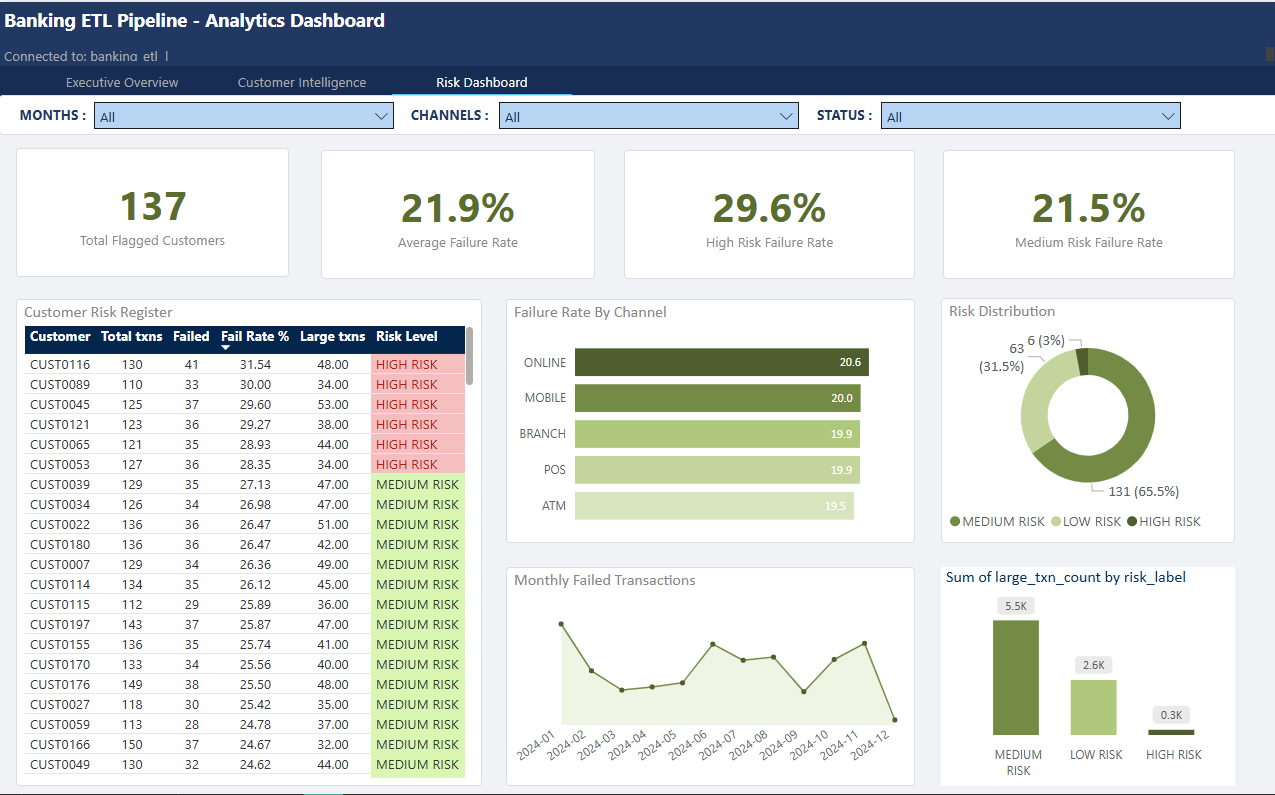

The dashboard page shown, as its layout file describes it:
{"tool":"powerbi","page":{"name":"Risk Dashboard","canvas":[1280,800],"ordinal":2},"visuals":[{"type":"textbox","box":[0,0,1280,40],"z":0},{"type":"textbox","box":[0,40,1280,24],"z":1},{"type":"textbox","box":[0,64,33,30],"z":2},{"type":"actionButton","title":"Executive Overview","box":[33,64,180,30],"z":3},{"type":"actionButton","box":[393,64,180,30],"z":4},{"type":"shape","box":[393,40,180,106],"z":5},{"type":"actionButton","box":[213,64,180,30],"z":6},{"type":"shape","box":[573,64,707,30],"z":7},{"type":"textbox","box":[0,93,1280,40],"z":8},{"type":"slicer","fields":{"Values":["banking_etl vw_monthly_trend.txn_month"]},"box":[85,90,320,40],"z":9},{"type":"slicer","fields":{"Values":["banking_etl vw_channel_performance.channel"]},"box":[490,90,320,40],"z":10},{"type":"slicer","fields":{"Values":["banking_etl fact_transactions.status"]},"box":[872,90,320,40],"z":11},{"type":"card","title":"Total Flagged Customers","fields":{"Values":["Count(banking_etl fact_transactions.customer_id)"]},"box":[17,146,273,129],"z":12},{"type":"card","fields":{"Values":["banking_etl vw_risk_customers.Average Failure Rate"]},"box":[322,148,274,129],"z":13},{"type":"card","fields":{"Values":["banking_etl vw_risk_customers.High Risk Failure Rate"]},"box":[625,148,291,129],"z":14},{"type":"card","fields":{"Values":["banking_etl vw_risk_customers.Medium Risk Failure Rate"]},"box":[944,148,292,129],"z":15},{"type":"tableEx","title":"Customer Risk Register","fields":{"Values":["banking_etl vw_risk_customers.customer_id","Sum(banking_etl vw_risk_customers.total_txns)","Sum(banking_etl vw_risk_customers.failed_txns)","Sum(banking_etl vw_risk_customers.failure_rate_pct)","Sum(banking_etl vw_risk_customers.large_txn_count)","banking_etl vw_risk_customers.risk_label"]},"box":[17,297,466,487],"z":16},{"type":"clusteredBarChart","title":"Failure Rate By Channel","fields":{"Y":["Sum(banking_etl vw_channel_performance.failure_rate_pct)"],"Category":["banking_etl vw_channel_performance.channel"]},"box":[507,297,409,244],"z":17},{"type":"donutChart","title":"Risk Distribution","fields":{"Category":["banking_etl vw_risk_customers.risk_label"],"Y":["CountNonNull(banking_etl vw_risk_customers.customer_id)"]},"box":[942,296,294,245],"z":18},{"type":"lineChart","title":"Monthly Failed Transactions","fields":{"Category":["banking_etl fact_transactions.txn_month"],"Y":["CountNonNull(banking_etl fact_transactions.transaction_id)"]},"box":[507,565,409,219],"z":19},{"type":"columnChart","fields":{"Category":["banking_etl vw_risk_customers.risk_label"],"Y":["Sum(banking_etl vw_risk_customers.large_txn_count)"]},"box":[942,565,294,219],"z":20}]}

Visuals, with their boxes on the page's 1280x800 design canvas (x1, y1, x2, y2). These are canvas units, not pixel positions in the 1275x795 screenshot, which may show the page scaled, cropped or inside an application window:
textbox: 0:0:1280:40
textbox: 0:40:1280:64
textbox: 0:64:33:94
"Executive Overview" actionButton: 33:64:213:94
actionButton: 393:64:573:94
shape: 393:40:573:146
actionButton: 213:64:393:94
shape: 573:64:1280:94
textbox: 0:93:1280:133
slicer - banking_etl vw_monthly_trend.txn_month: 85:90:405:130
slicer - banking_etl vw_channel_performance.channel: 490:90:810:130
slicer - banking_etl fact_transactions.status: 872:90:1192:130
"Total Flagged Customers" card: 17:146:290:275
card - banking_etl vw_risk_customers.Average Failure Rate: 322:148:596:277
card - banking_etl vw_risk_customers.High Risk Failure Rate: 625:148:916:277
card - banking_etl vw_risk_customers.Medium Risk Failure Rate: 944:148:1236:277
"Customer Risk Register" tableEx: 17:297:483:784
"Failure Rate By Channel" clusteredBarChart: 507:297:916:541
"Risk Distribution" donutChart: 942:296:1236:541
"Monthly Failed Transactions" lineChart: 507:565:916:784
columnChart - banking_etl vw_risk_customers.risk_label x Sum(banking_etl vw_risk_customers.large_txn_count): 942:565:1236:784
